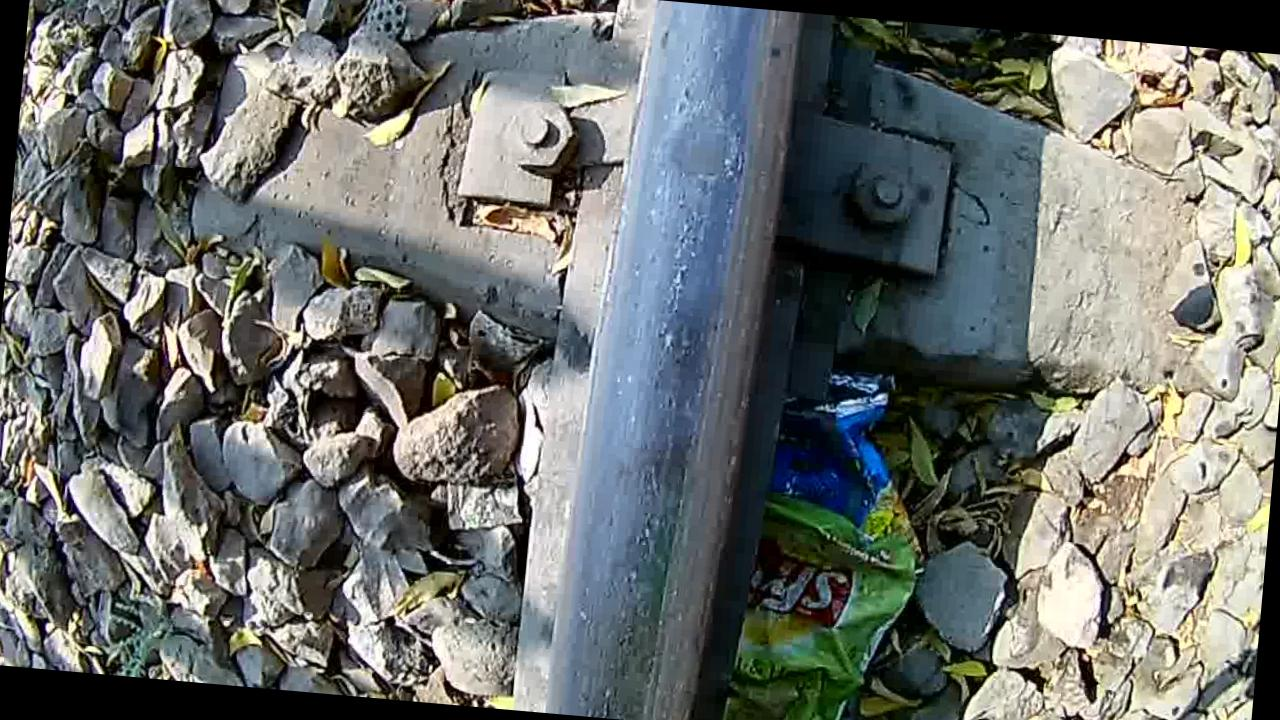bolt_missing: (583, 17, 785, 597)
